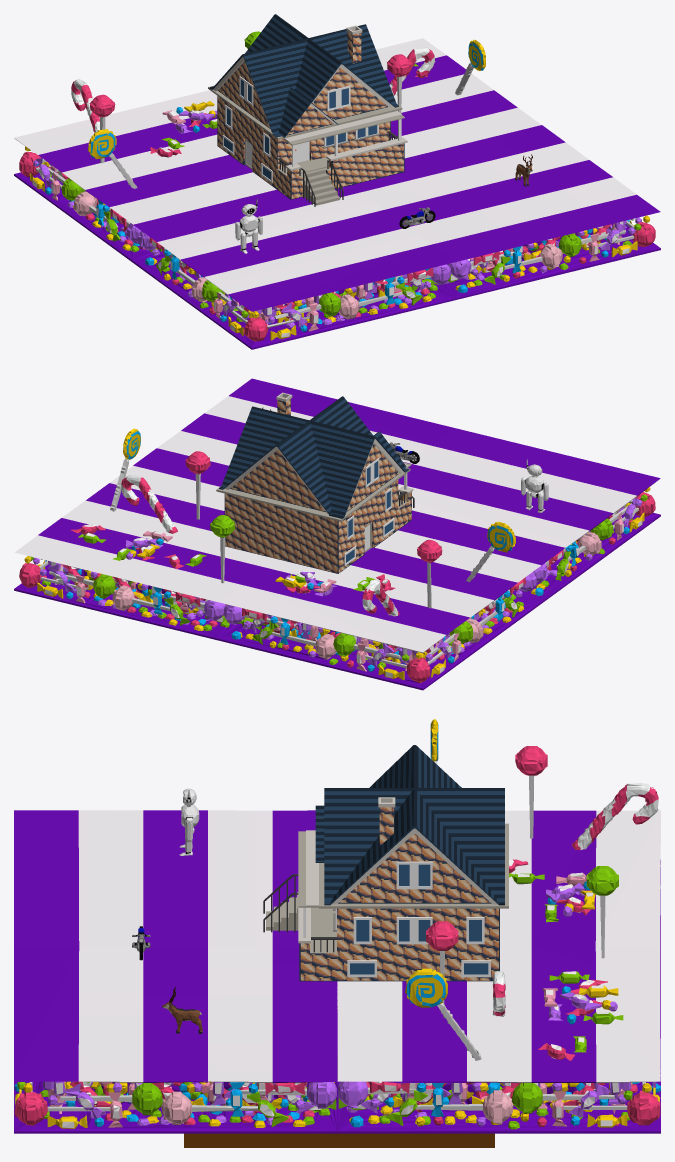
3 renders of one model, top to bottom at view 1: azimuth 30°, elevation 25°; view 2: azimuth 150°, elevation 25°; view 3: azimuth 270°, elevation 25°, orthographic. The views are drawn at different scales.
Parts seen in each view (by area): view 1: TERRAIN_CANDY, Cube.430, OBJRANDOM_PLATZEEBOT; view 2: TERRAIN_CANDY, Cube.430, OBJRANDOM_PLATZEEBOT; view 3: TERRAIN_CANDY, Cube.430, UNDERGROUND_ART_PIECE_VAN_GOGH, OBJRANDOM_PLATZEEBOT.
Boxes of the visible parts, bbox=[...] form: TERRAIN_CANDY: bbox=[14, 31, 660, 349]; Cube.430: bbox=[208, 14, 407, 206]; OBJRANDOM_PLATZEEBOT: bbox=[235, 199, 262, 253]; TERRAIN_CANDY: bbox=[14, 378, 660, 690]; Cube.430: bbox=[216, 392, 414, 573]; OBJRANDOM_PLATZEEBOT: bbox=[521, 459, 548, 512]; TERRAIN_CANDY: bbox=[14, 719, 660, 1133]; Cube.430: bbox=[263, 745, 508, 981]; UNDERGROUND_ART_PIECE_VAN_GOGH: bbox=[184, 1133, 494, 1147]; OBJRANDOM_PLATZEEBOT: bbox=[179, 788, 199, 855].
Size of the model in its own units: 4059 by 1710 by 4000.
27 materials, 4 textured.
